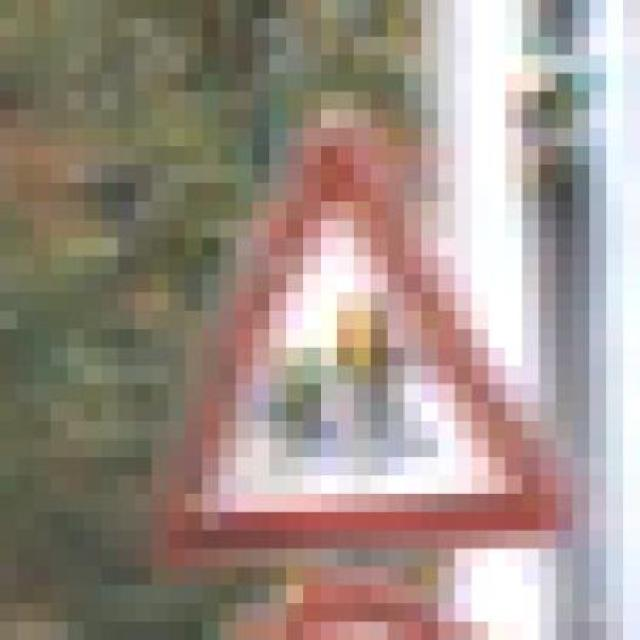Beware of children: (118, 73, 573, 549)
